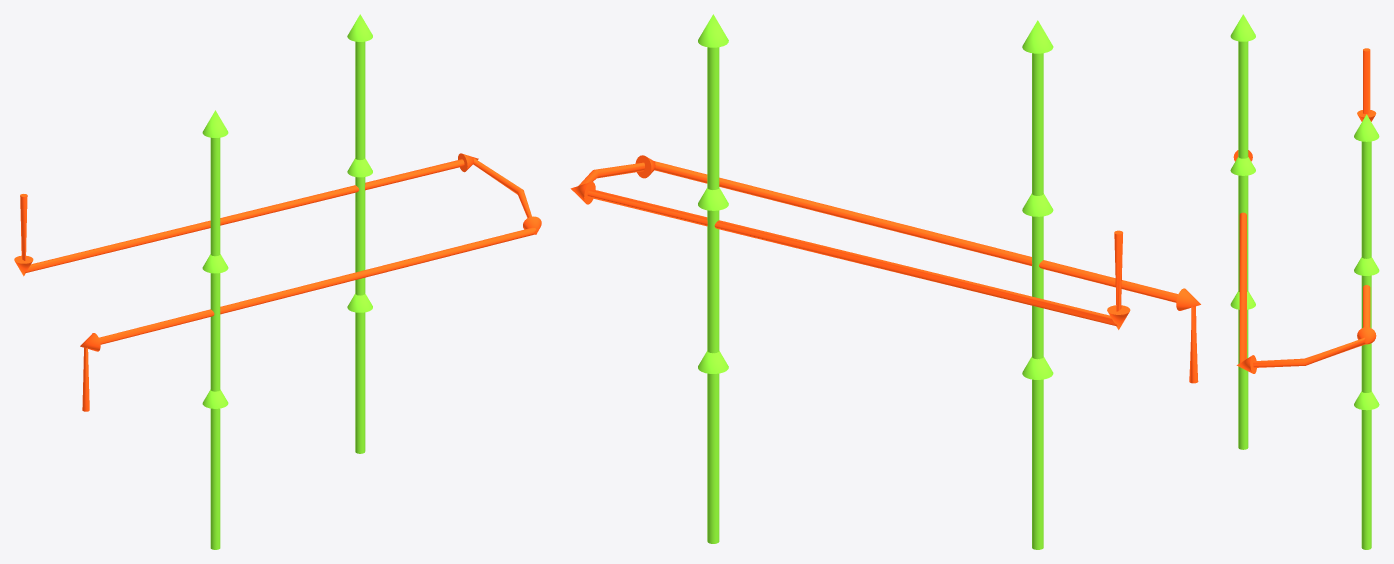
Rendered from air_cooled_heat_exchanger_flow.glb.
3 renders of one model, left to right at view 1: azimuth 30°, elevation 25°; view 2: azimuth 150°, elevation 25°; view 3: azimuth 270°, elevation 25°, orthographic. The views are drawn at different scales.
Parts seen in each view (by area): view 1: process, air_0, air_1; view 2: process, air_1, air_0; view 3: air_1, air_0, process.
Boxes of the visible parts, x1,y1,x2,y2 form: process: (14,153,541,411); air_0: (202,110,228,549); air_1: (347,14,372,453); process: (570,155,1200,383); air_1: (698,14,728,543); air_0: (1022,20,1053,549); air_1: (1354,114,1379,549); air_0: (1230,14,1255,449); process: (1233,48,1376,373).
Bounding box in the file's own units: 2.21 × 1.94 × 0.604.
